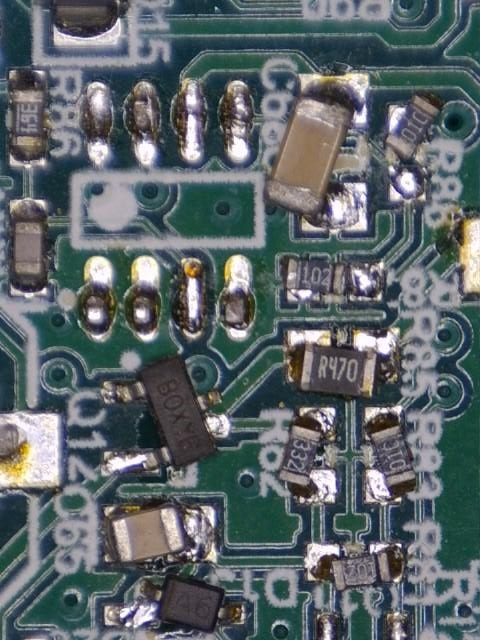pcb_defect: (261, 70, 370, 233), (99, 354, 230, 478), (101, 574, 246, 634), (285, 327, 403, 399), (101, 500, 218, 564), (382, 92, 444, 203), (277, 406, 338, 504), (362, 405, 417, 505), (305, 541, 404, 592), (283, 256, 385, 304)
